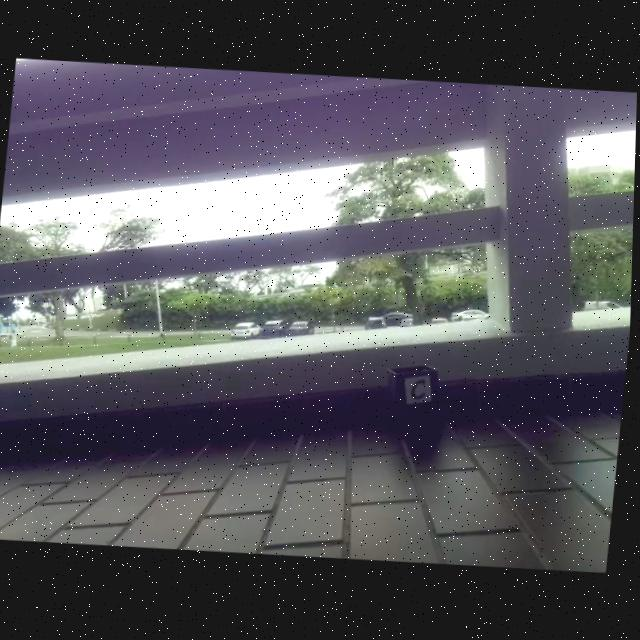C: (412, 381, 428, 401)
